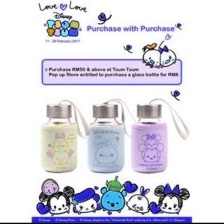bottle: (125, 98, 177, 179), (36, 98, 82, 177), (84, 98, 126, 177)
